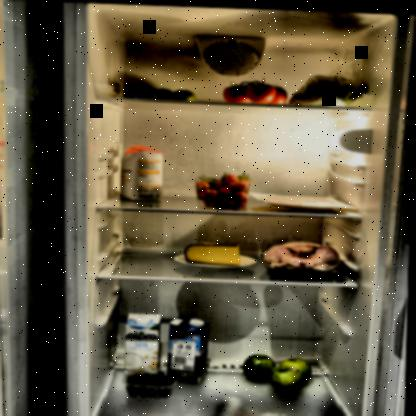apple: (245, 350, 321, 390)
blueberries: (129, 369, 181, 396)
cheese: (185, 240, 244, 265)
chicken: (262, 238, 351, 279)
green_beans: (290, 70, 371, 105)
lime: (122, 82, 198, 102)
milk: (169, 315, 215, 386), (125, 311, 168, 377)
strawberries: (193, 166, 254, 208)
tomato: (221, 73, 291, 104)
